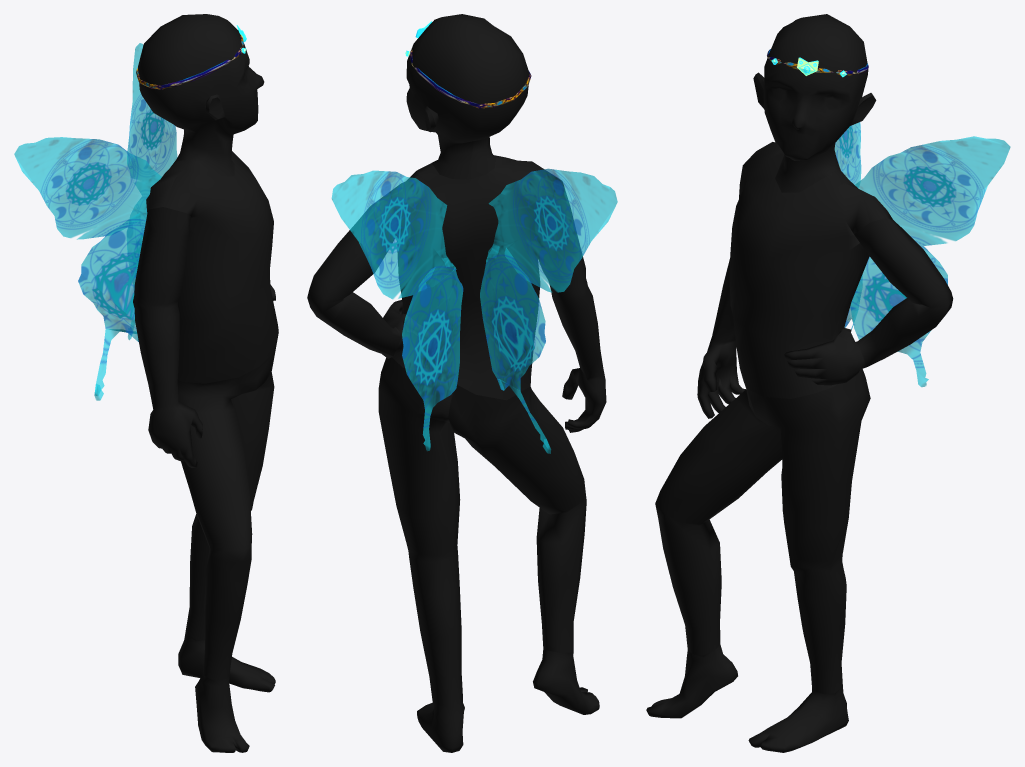
The model's file is speak_wearable.glb.
3 views of the same model, side by side, from view 1: azimuth 30°, elevation 25°; view 2: azimuth 150°, elevation 25°; view 3: azimuth 270°, elevation 25° (orthographic). The views are drawn at different scales.
Parts seen in each view (by area): view 1: Speak; view 2: Speak; view 3: Speak.
Part boxes in pixels (left/top/right/bottom): Speak: left=14, top=14, right=278, bottom=752; Speak: left=307, top=14, right=617, bottom=752; Speak: left=646, top=14, right=1010, bottom=752.
Bounding box in the file's own units: 0.7256 × 1.89 × 0.8775.
4 materials, 4 textured.
